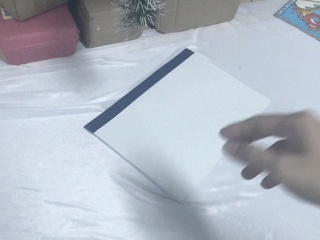box: (1, 1, 81, 67), (68, 1, 144, 49), (142, 1, 244, 34)
